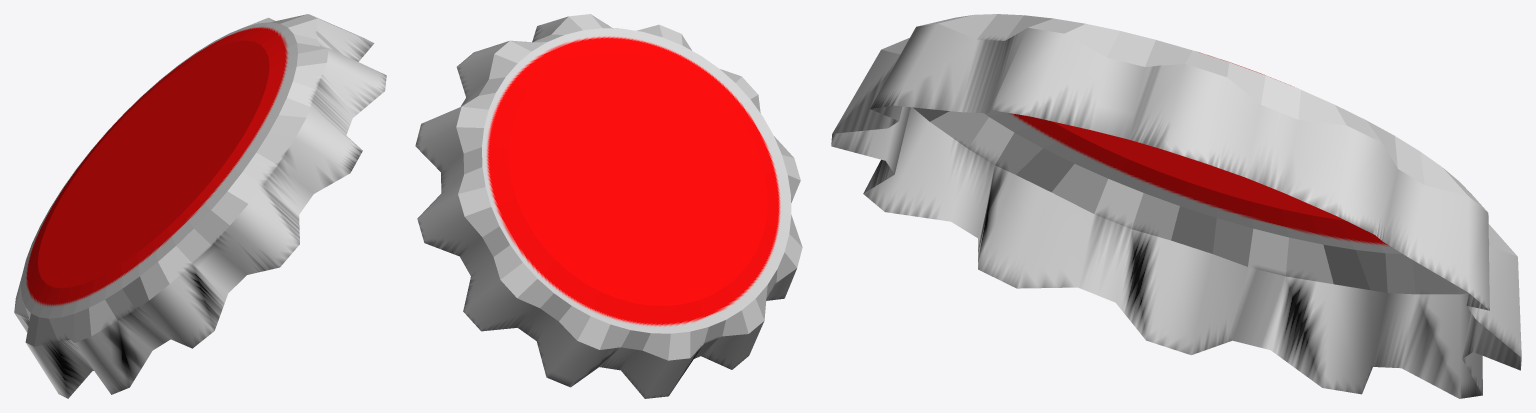
The model's file is capBullet.fbx.
The picture shows the model from 3 angles, left to right: view 1: azimuth 30°, elevation 25°; view 2: azimuth 150°, elevation 25°; view 3: azimuth 270°, elevation 25°; orthographic projection. The views are drawn at different scales.
Visible parts, largest first — view 1: polySurface52; view 2: polySurface52; view 3: polySurface52.
Part boxes in pixels (<box>): polySurface52: <box>14,14,386,398</box>; polySurface52: <box>415,14,802,398</box>; polySurface52: <box>831,14,1521,398</box>.
Bounding box in the file's own units: 0.1717 × 0.1567 × 0.1947.
1 material, 1 textured.
